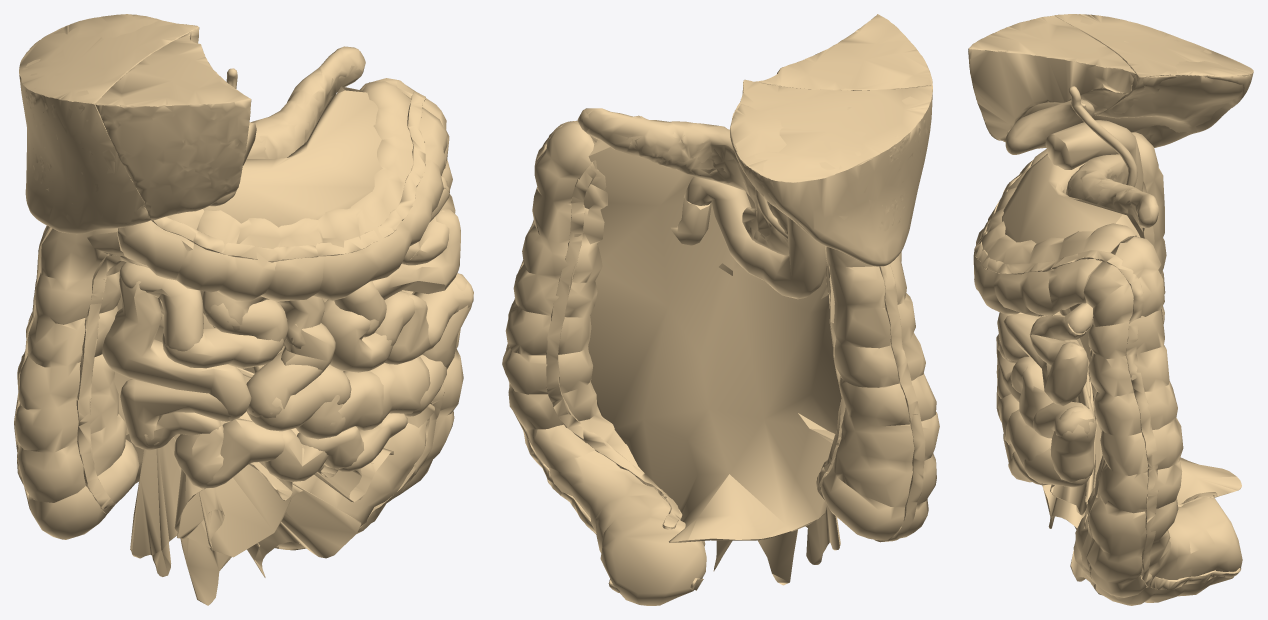
File: digestif-abdomen.lo.glb
3 renders of one model, left to right at view 1: azimuth 30°, elevation 25°; view 2: azimuth 150°, elevation 25°; view 3: azimuth 270°, elevation 25°, orthographic. The views are drawn at different scales.
Parts seen in each view (by area): view 1: FJ2572, FJ2566, FJ3396, FJ2409, FJ2821, FJ3398, FJ2621, FJ2567, FJ2570, FJ2568, FJ2574, FJ2620 (+27 smaller); view 2: FJ3398, FJ2567, FJ2409, FJ2566, FJ2821, FJ2573, FJ2569, FJ1895, FJ2629, FJ2570, FJ2822, FJ3396 (+1 smaller); view 3: FJ2567, FJ2821, FJ2409, FJ2572, FJ3398, FJ2570, FJ2822, FJ2623, FJ2573, FJ3396, FJ1895, FJ2817 (+18 smaller).
Part boxes in pixels (x1,y1,x2,y2): FJ2572: [117, 81, 447, 301]; FJ2566: [15, 228, 139, 539]; FJ3396: [130, 290, 434, 605]; FJ2409: [19, 15, 199, 234]; FJ2821: [95, 32, 251, 220]; FJ3398: [114, 86, 382, 483]; FJ2621: [102, 270, 251, 420]; FJ2567: [277, 78, 463, 548]; FJ2570: [14, 91, 425, 510]; FJ2568: [76, 253, 444, 550]; FJ2574: [120, 379, 242, 449]; FJ2620: [120, 262, 203, 351]; FJ3398: [588, 136, 841, 542]; FJ2567: [502, 121, 706, 605]; FJ2409: [732, 79, 932, 266]; FJ2566: [820, 247, 939, 540]; FJ2821: [755, 14, 932, 90]; FJ2573: [684, 176, 826, 299]; FJ2569: [546, 160, 845, 529]; FJ1895: [577, 108, 788, 255]; FJ2629: [579, 108, 789, 255]; FJ2570: [506, 120, 925, 592]; FJ2822: [730, 87, 932, 250]; FJ3396: [713, 263, 840, 585]; FJ2567: [1073, 236, 1242, 605]; FJ2821: [968, 15, 1135, 142]; FJ2409: [1054, 14, 1253, 133]; FJ2572: [973, 149, 1136, 316]; FJ3398: [1002, 153, 1241, 504]; FJ2570: [974, 160, 1241, 589]; FJ2822: [1080, 17, 1252, 147]; FJ2623: [1003, 314, 1088, 405]; FJ2573: [1045, 120, 1143, 191]; FJ3396: [1037, 308, 1102, 581]; FJ1895: [1066, 154, 1158, 226]; FJ2817: [1005, 99, 1094, 154].
Bounding box in the file's own units: 0.2437 × 0.2962 × 0.1544.
